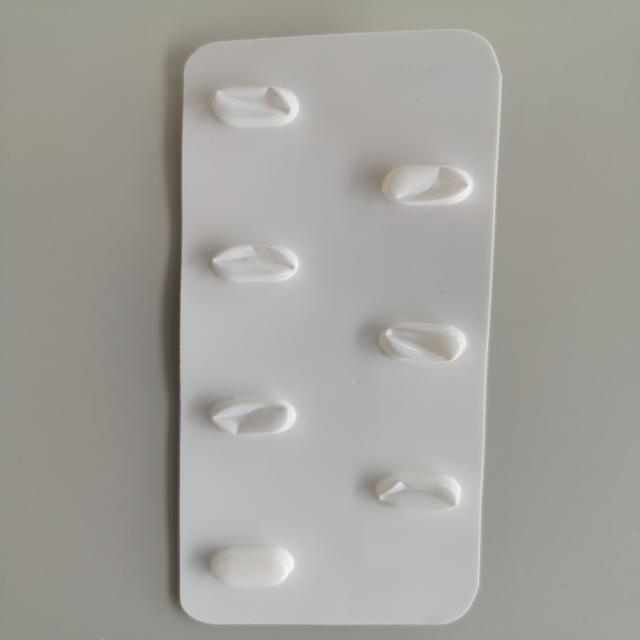Empty: (204, 237, 304, 290), (203, 80, 304, 132), (375, 161, 480, 211), (368, 464, 466, 516), (371, 316, 469, 366), (202, 389, 298, 439)
Pill: (203, 541, 298, 590)
